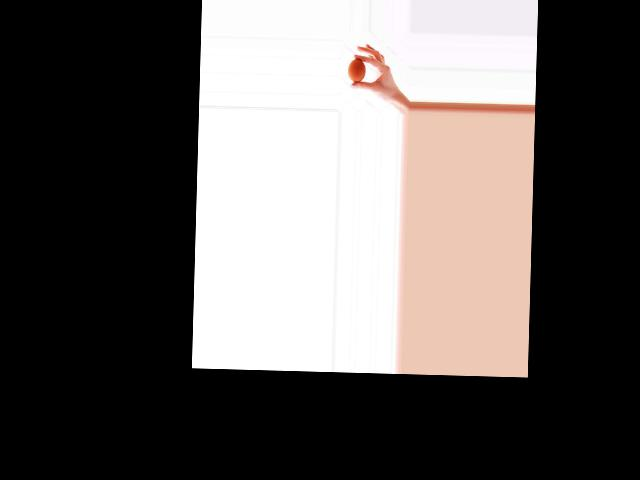egg: (347, 58, 365, 82)
